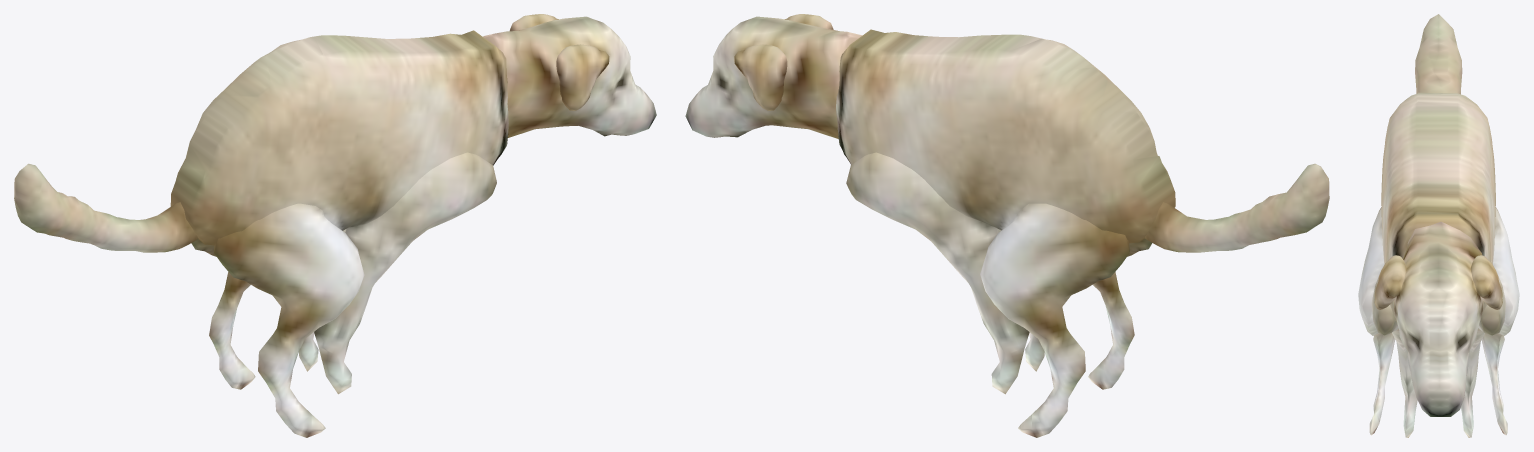
The model's file is dog.gltf.
3 views of the same model, side by side, from view 1: azimuth 30°, elevation 25°; view 2: azimuth 150°, elevation 25°; view 3: azimuth 270°, elevation 25° (orthographic). The views are drawn at different scales.
Parts seen in each view (by area): view 1: model; view 2: model; view 3: model.
Boxes of the visible parts, x1,y1,x2,y2 form: model: (14, 14, 656, 437); model: (685, 14, 1329, 437); model: (1358, 14, 1519, 437).
Size of the model in its own units: 1.38 by 0.7374 by 0.3091.
1 material, 1 textured.
